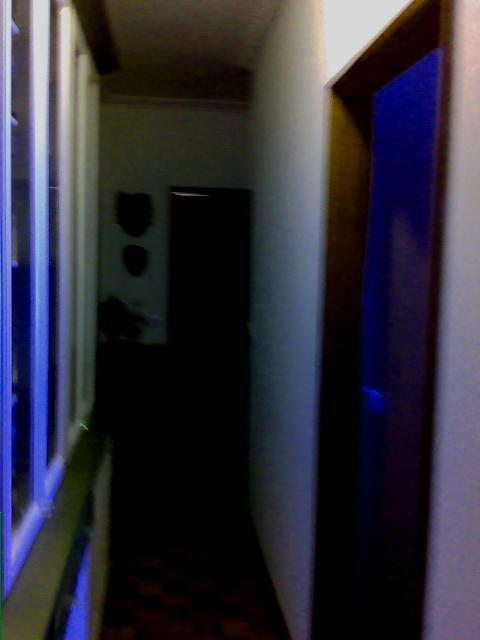closed_door: (164, 186, 247, 458)
